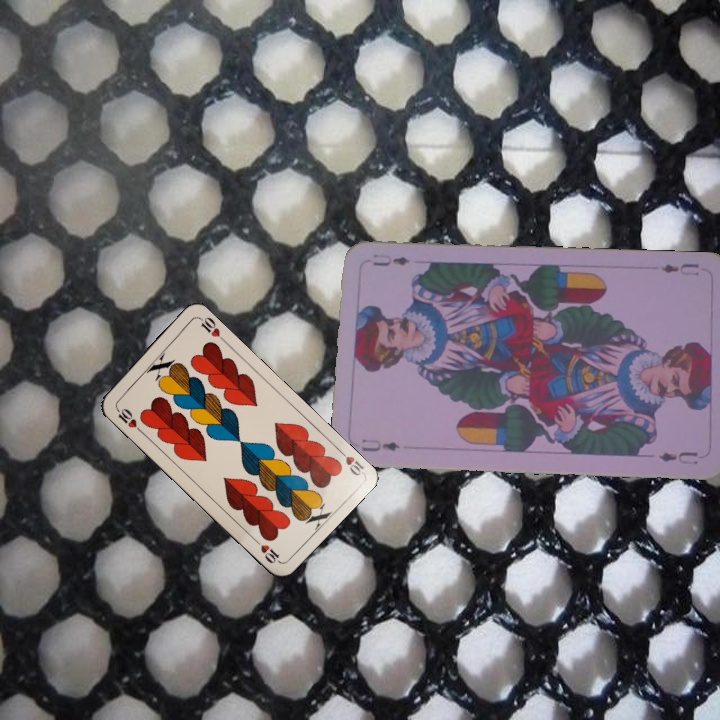EU: (357, 436, 402, 454), (657, 259, 701, 276)
H10: (333, 443, 367, 478), (112, 403, 144, 435)
